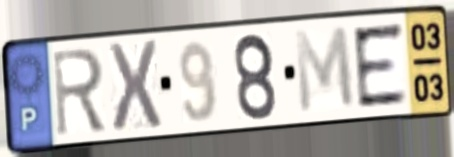8: (232, 30, 278, 123)
9: (177, 38, 220, 125)
E: (349, 19, 410, 112)
M: (292, 23, 358, 117)
R: (50, 45, 109, 140)
X: (105, 38, 165, 137)
